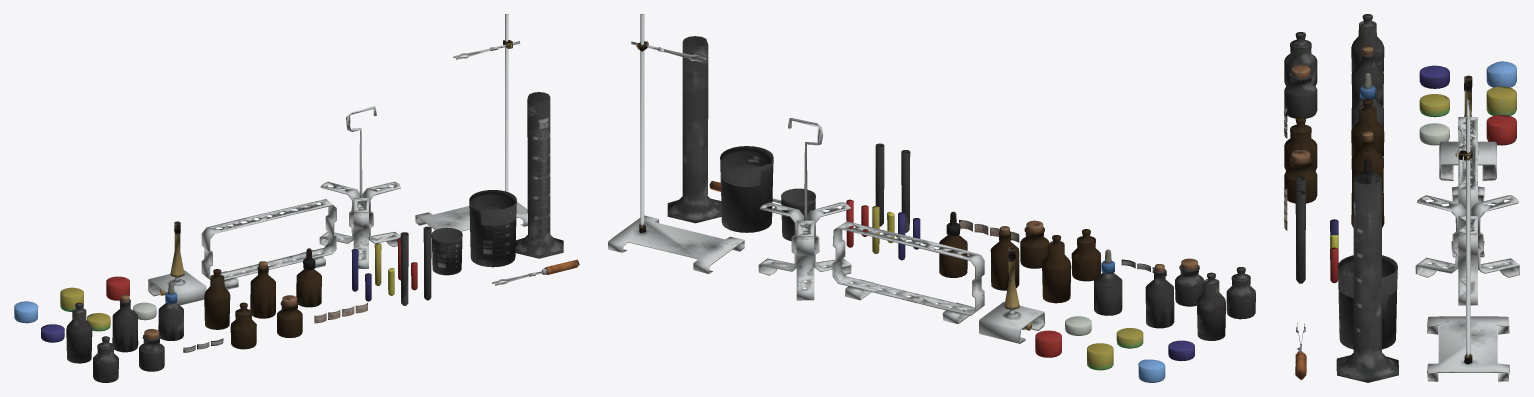
The model's file is chemistry_set.bbecc492.glb.
3 views of the same model, side by side, from view 1: azimuth 30°, elevation 25°; view 2: azimuth 150°, elevation 25°; view 3: azimuth 270°, elevation 25° (orthographic). The views are drawn at different scales.
Parts seen in each view (by area): view 1: chemistry_set_beaker_large, chemistry_set_beaker_med, chemistry_set_test_tube_stand_a, chemistry_set_test_tube_stand_b, chemistry_set_clamp_stand, chemistry_set_bunsen_burner, chemistry_set_beaker_small, chemistry_set_bottle_dark_c, chemistry_set_bottle_clear_c, chemistry_set_bottle_clear_d, chemistry_set_bottle_dark_d, chemistry_set_bottle_dark_e (+11 smaller); view 2: chemistry_set_beaker_large, chemistry_set_clamp_stand, chemistry_set_test_tube_stand_a, chemistry_set_beaker_med, chemistry_set_test_tube_stand_b, chemistry_set_bunsen_burner, chemistry_set_bottle_dark_c, chemistry_set_bottle_clear_c, chemistry_set_bottle_clear_d, chemistry_set_bottle_dark_d, chemistry_set_bottle_clear_e, chemistry_set_bottle_clear_a (+10 smaller); view 3: chemistry_set_beaker_large, chemistry_set_clamp_stand, chemistry_set_test_tube_stand_b, chemistry_set_beaker_med, chemistry_set_bunsen_burner, chemistry_set_test_tube_stand_a, chemistry_set_bottle_clear_b, chemistry_set_bottle_clear_d, chemistry_set_bottle_dark_b, chemistry_set_bottle_clear_c, chemistry_set_bottle_dark_c, chemistry_set_test_tube_a (+16 smaller).
Boxes of the visible parts, box(x1,y1,x2,y2) form: chemistry_set_beaker_large: box(515, 92, 563, 258); chemistry_set_beaker_med: box(469, 190, 516, 267); chemistry_set_test_tube_stand_a: box(201, 199, 336, 289); chemistry_set_test_tube_stand_b: box(319, 106, 400, 268); chemistry_set_clamp_stand: box(415, 14, 527, 231); chemistry_set_bunsen_burner: box(148, 221, 206, 305); chemistry_set_beaker_small: box(431, 227, 462, 275); chemistry_set_bottle_dark_c: box(204, 274, 230, 329); chemistry_set_bottle_clear_c: box(66, 308, 92, 363); chemistry_set_bottle_clear_d: box(112, 299, 138, 352); chemistry_set_bottle_dark_d: box(250, 266, 275, 318); chemistry_set_bottle_dark_e: box(296, 269, 321, 307); chemistry_set_beaker_large: box(667, 36, 721, 223); chemistry_set_clamp_stand: box(608, 14, 744, 273); chemistry_set_test_tube_stand_a: box(832, 221, 984, 323); chemistry_set_beaker_med: box(720, 146, 773, 232); chemistry_set_test_tube_stand_b: box(758, 118, 851, 300); chemistry_set_bunsen_burner: box(979, 247, 1044, 343); chemistry_set_bottle_dark_c: box(1042, 241, 1071, 303); chemistry_set_bottle_clear_c: box(1197, 279, 1225, 340); chemistry_set_bottle_clear_d: box(1145, 269, 1174, 328); chemistry_set_bottle_dark_d: box(990, 231, 1019, 290); chemistry_set_bottle_clear_e: box(1094, 272, 1122, 315); chemistry_set_bottle_clear_a: box(1226, 274, 1255, 319); chemistry_set_beaker_large: box(1336, 172, 1398, 382); chemistry_set_clamp_stand: box(1427, 118, 1509, 381); chemistry_set_test_tube_stand_b: box(1415, 98, 1519, 305); chemistry_set_beaker_med: box(1337, 255, 1397, 349); chemistry_set_bunsen_burner: box(1439, 75, 1496, 180); chemistry_set_test_tube_stand_a: box(1451, 117, 1484, 257); chemistry_set_bottle_clear_b: box(1284, 72, 1317, 118); chemistry_set_bottle_clear_d: box(1351, 52, 1383, 106); chemistry_set_bottle_dark_b: box(1284, 157, 1317, 203); chemistry_set_bottle_clear_c: box(1351, 21, 1384, 72); chemistry_set_bottle_dark_c: box(1351, 106, 1384, 156); chemistry_set_test_tube_a: box(1295, 190, 1305, 283).
Bounding box in the file's own units: 0.95 × 0.3769 × 0.3102.
Materials: 2 (2 with a texture image).
